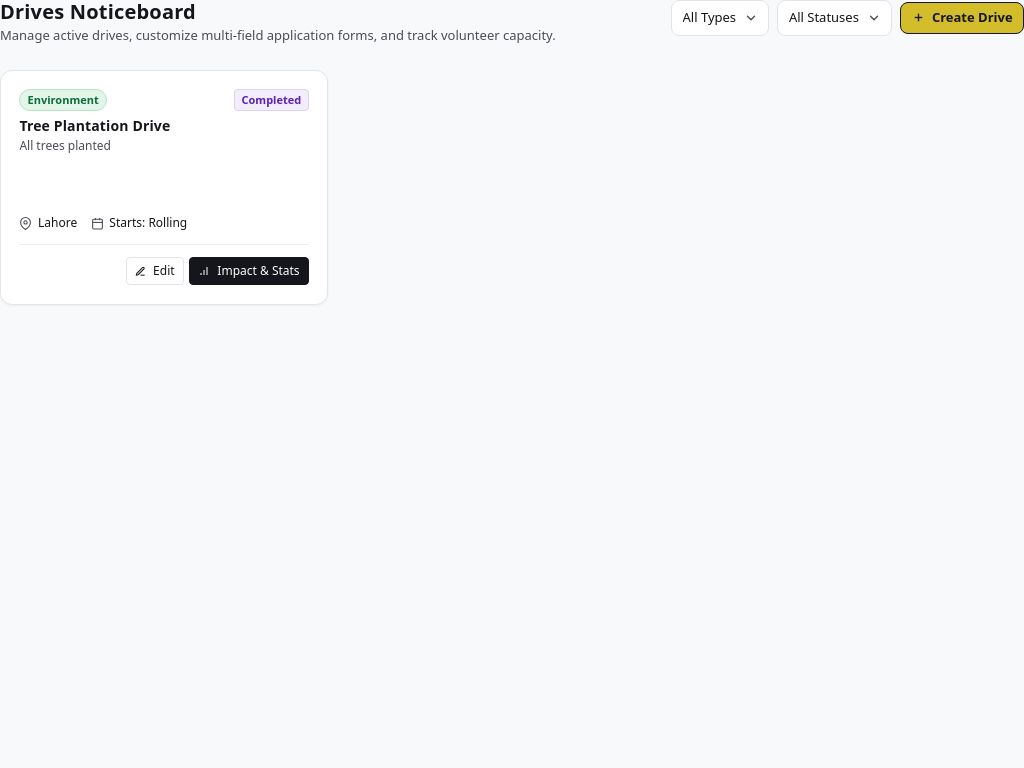
Test: YouthRepublicOpportunitiesPage › renders Impact & Stats button instead of View Applicants on completed drives and opens modal
Expected: the text "Tree Plantation Drive" is shown, 19,117 -> 170,134
Click Impact & Stats
Click the button "Impact & Stats": x=249, y=271 189,257 -> 309,285
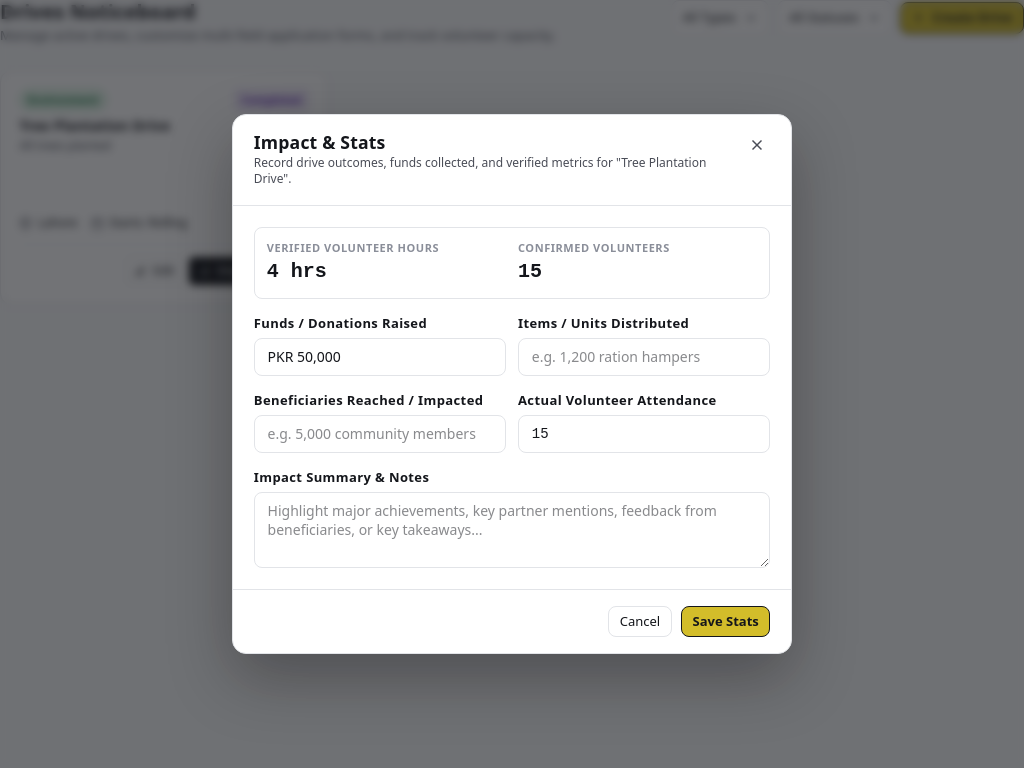
Expected: the heading "Impact & Stats" is shown, 254,130 -> 386,154
Expected: the field showing "PKR 50,000" is shown, 254,338 -> 506,376
